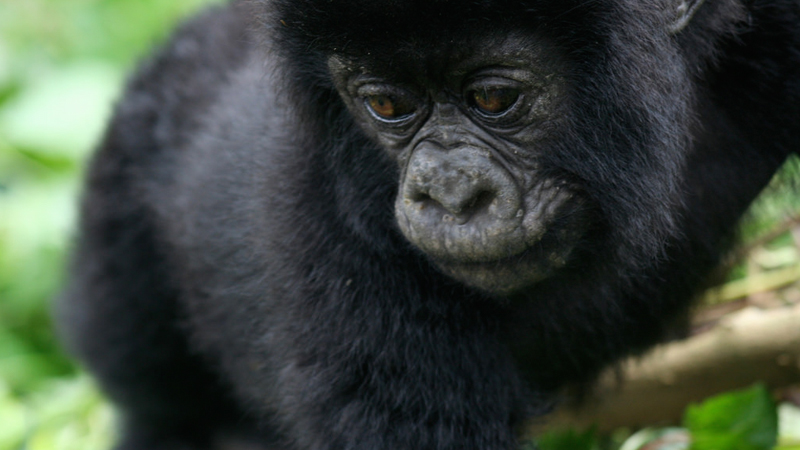Goriila: (68, 5, 784, 438)
